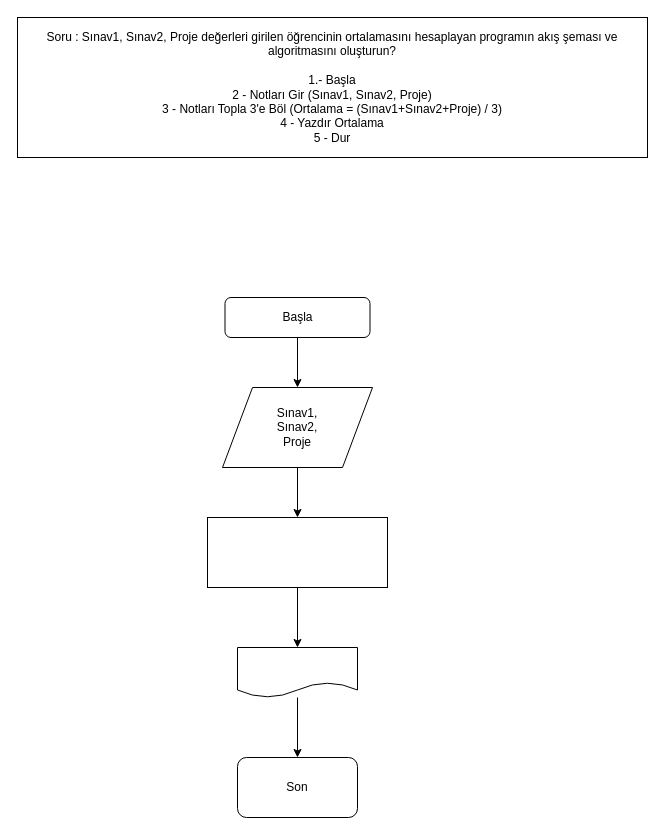
Some shapes in this 665 by 835 pixel diagram are drawn without their labels. Here are the shapes that lost their labels. From the top down, the centre of each, then its label:
(297,552): (Ortalama = (Sınav1+Sınav2+Proje) / 3)
(297,672): Ortalama
